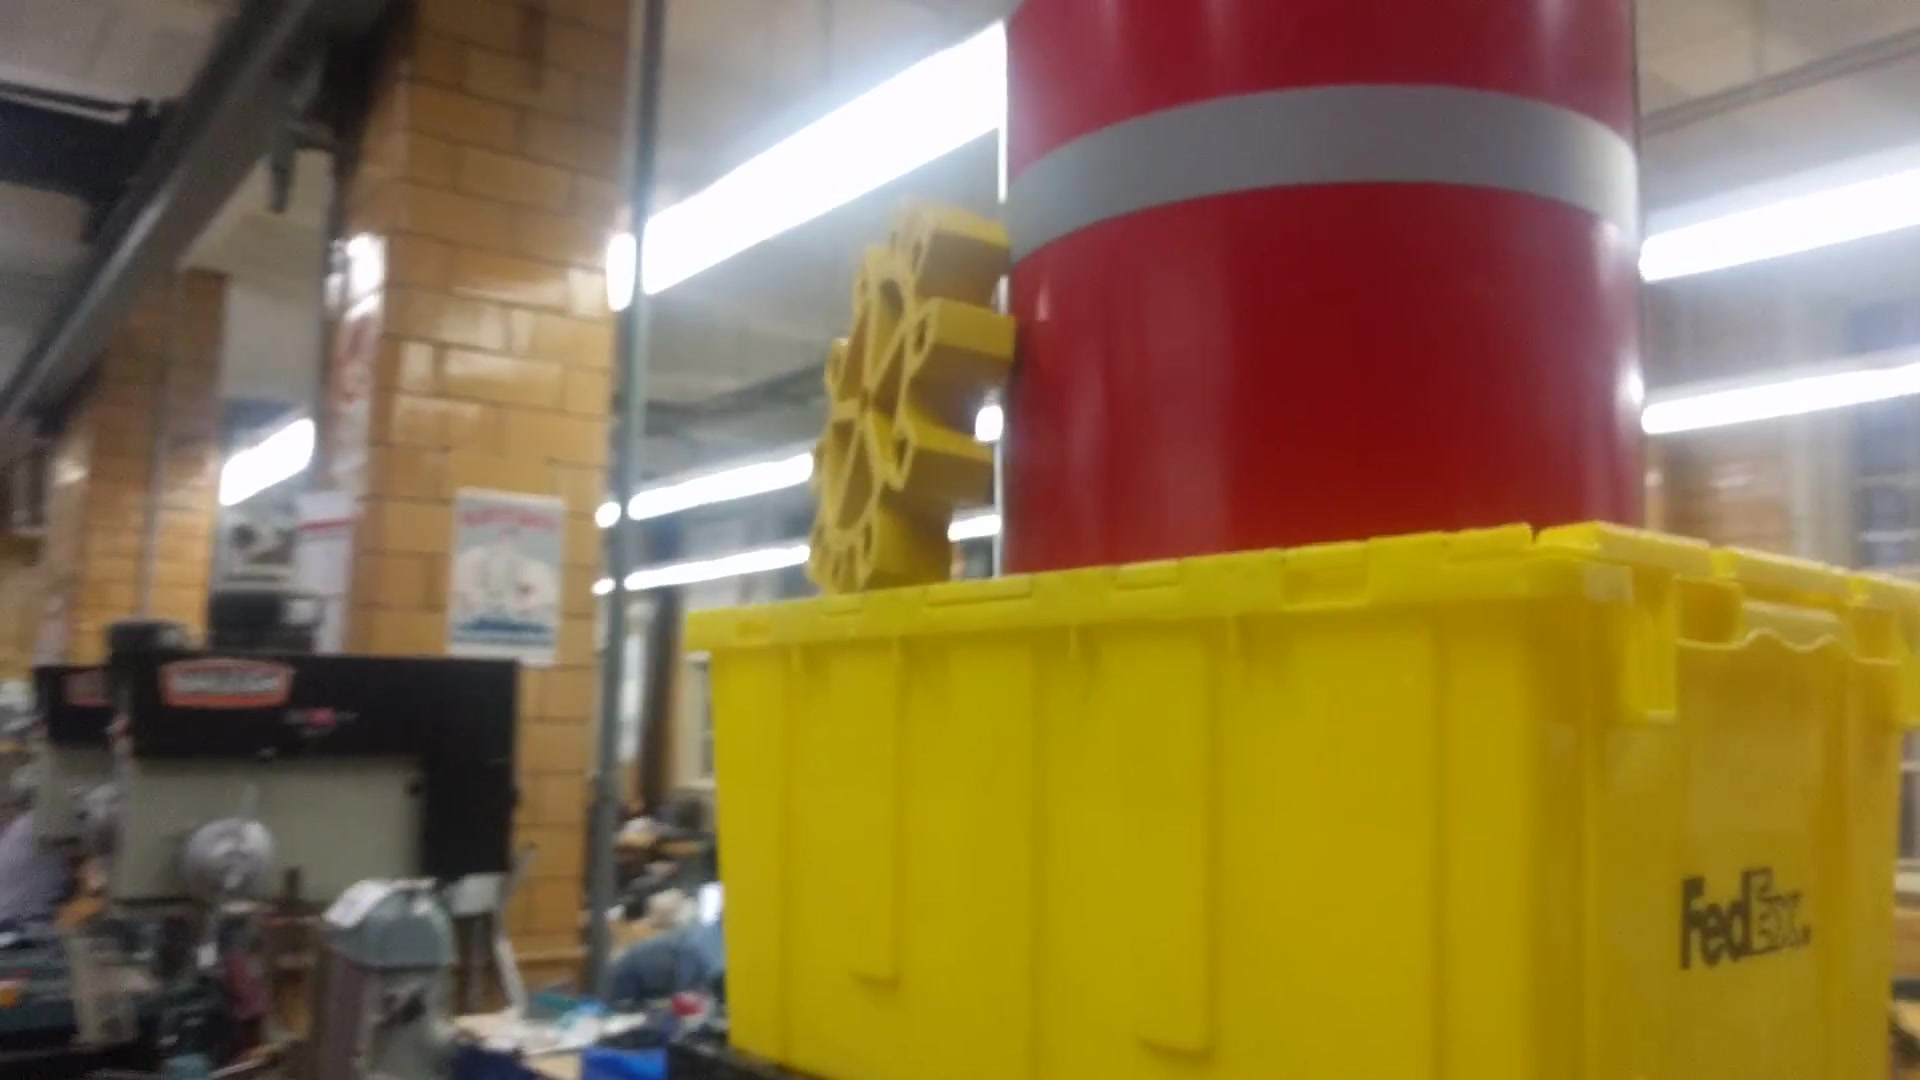gear: (793, 195, 1015, 588)
